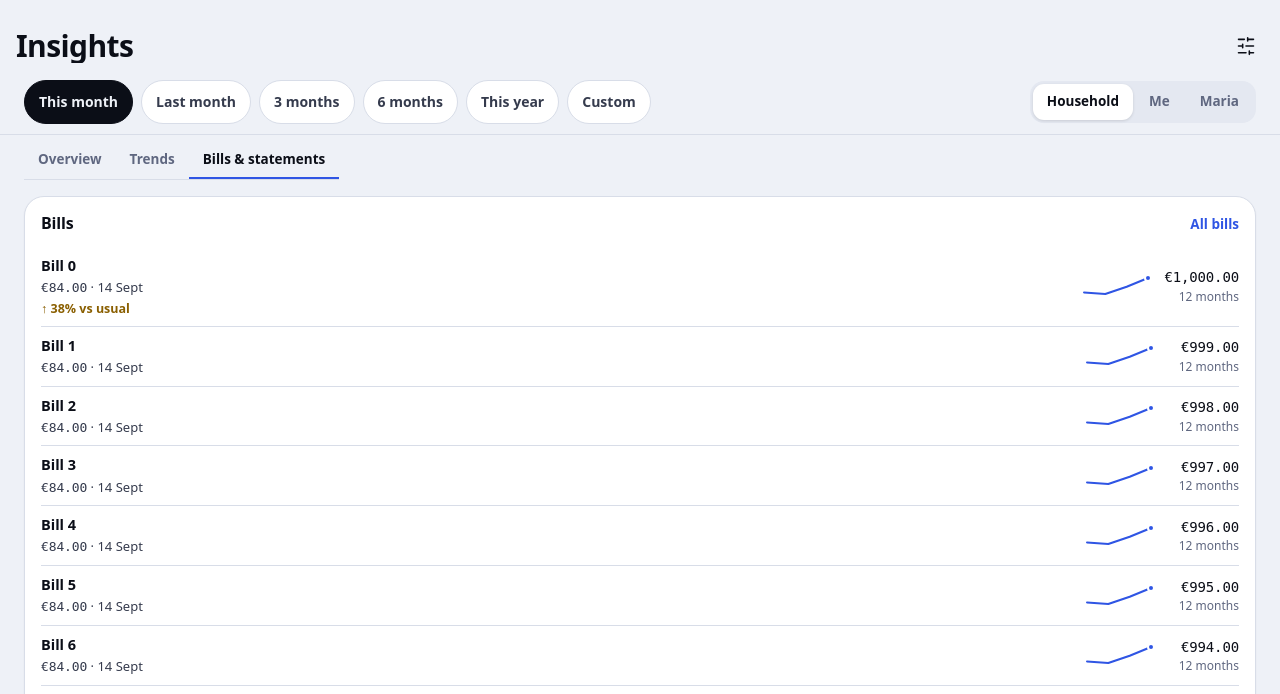
desktop: the Bills panel (up to 8 rows), the 12-month table and the categories table
Click the tab "Trends" at (152, 161), box x1=116 y1=143 x2=189 y2=179
(page scrolled)
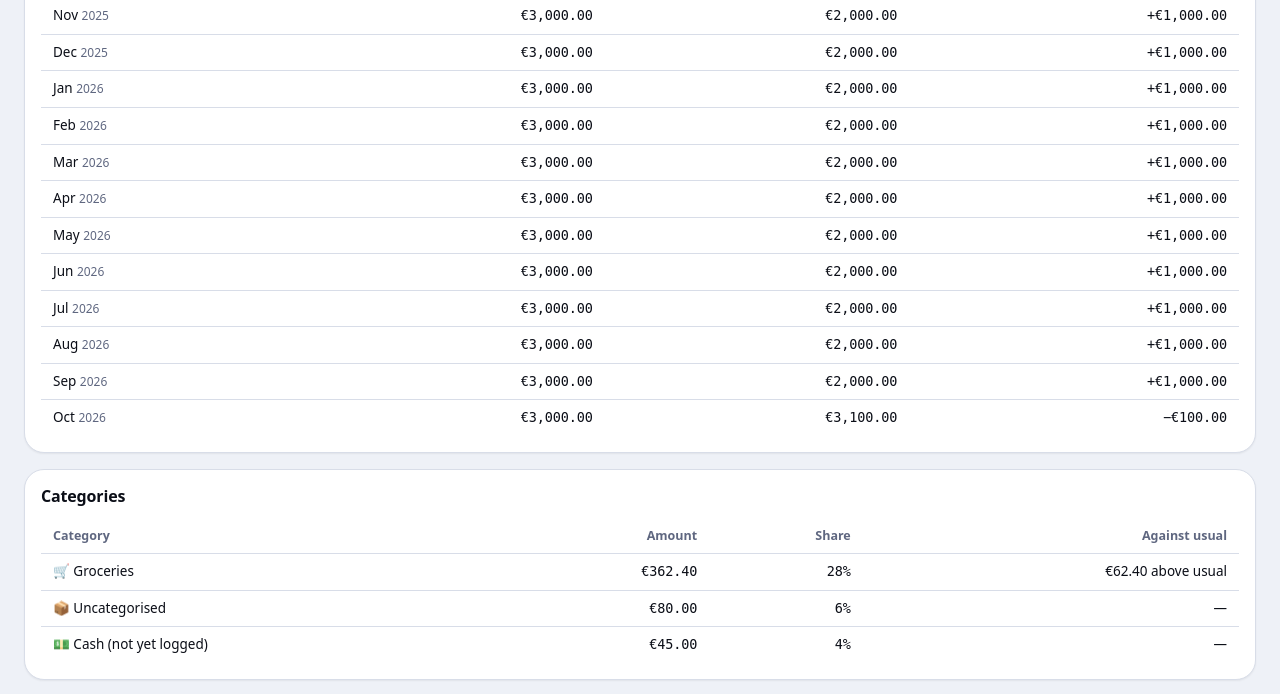
Result: the table named "Categories" is shown at x1=41 y1=519 x2=1239 y2=663
